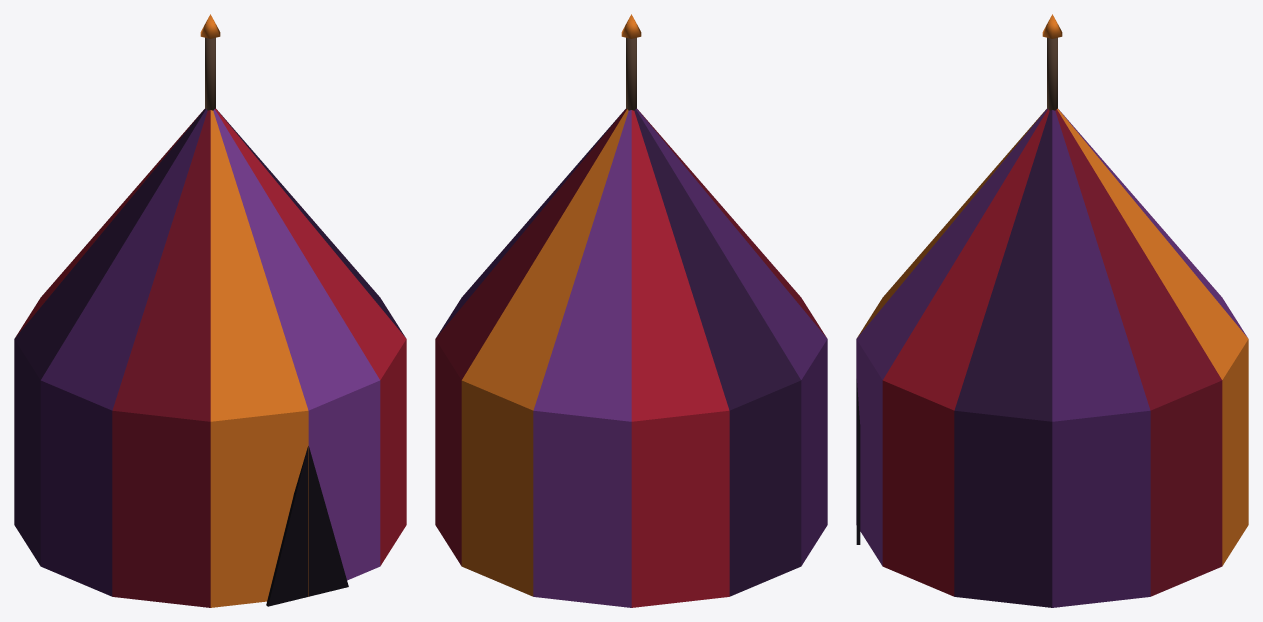
File: tent.glb
3 renders of one model, left to right at view 1: azimuth 30°, elevation 25°; view 2: azimuth 150°, elevation 25°; view 3: azimuth 270°, elevation 25°, orthographic.
Parts seen in each view (by area): view 1: tent; view 2: tent; view 3: tent.
Boxes of the visible parts, <box> form: tent: <box>14,14,406,607</box>; tent: <box>435,14,827,607</box>; tent: <box>856,14,1248,607</box>.
Size of the model in its own units: 2.1 by 3.02 by 2.1.
